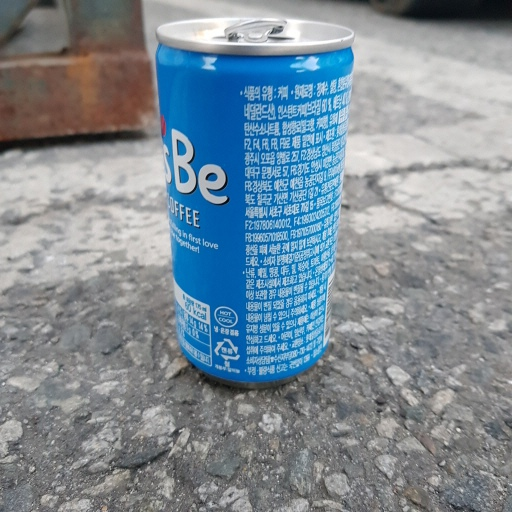Metal_0: (154, 17, 357, 385)
